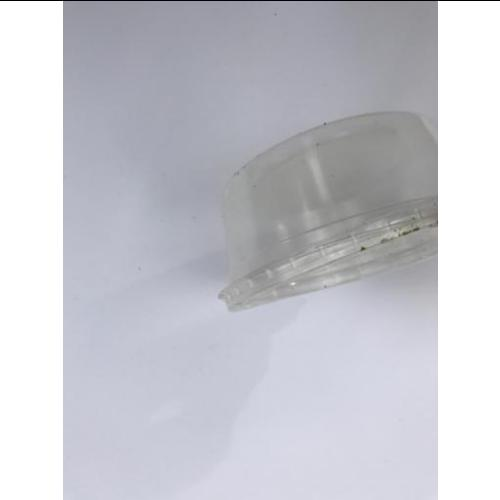plastic: (222, 109, 437, 312)
